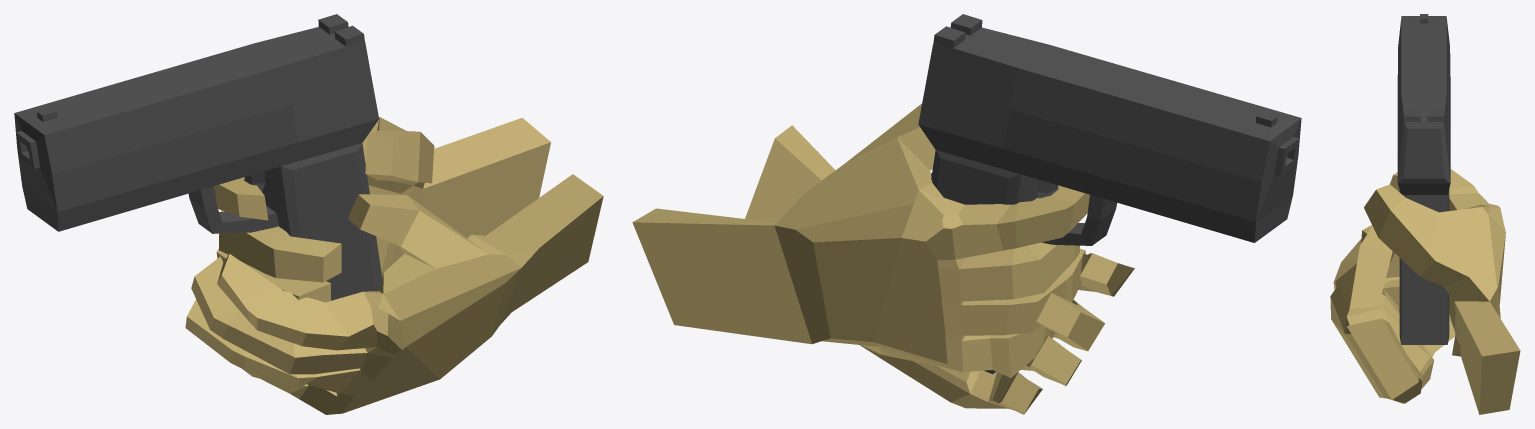
File: HandWithGun2.fbx
The picture shows the model from 3 angles, left to right: view 1: azimuth 30°, elevation 25°; view 2: azimuth 150°, elevation 25°; view 3: azimuth 270°, elevation 25°; orthographic projection. The views are drawn at different scales.
Visible parts, largest first — view 1: Gun.001, Hand.004, Hand.001; view 2: Hand.001, Gun.001, Hand.004; view 3: Hand.001, Gun.001, Hand.004.
Boxes of the visible parts, x1,y1,x2,y2 form: Gun.001: [14, 14, 382, 300]; Hand.004: [185, 174, 603, 414]; Hand.001: [214, 117, 550, 302]; Hand.001: [632, 103, 1089, 377]; Gun.001: [918, 14, 1301, 373]; Hand.004: [745, 125, 1134, 414]; Hand.001: [1361, 169, 1520, 414]; Gun.001: [1397, 14, 1450, 344]; Hand.004: [1330, 226, 1455, 403].
Bounding box in the file's own units: 814 × 505 × 317.
